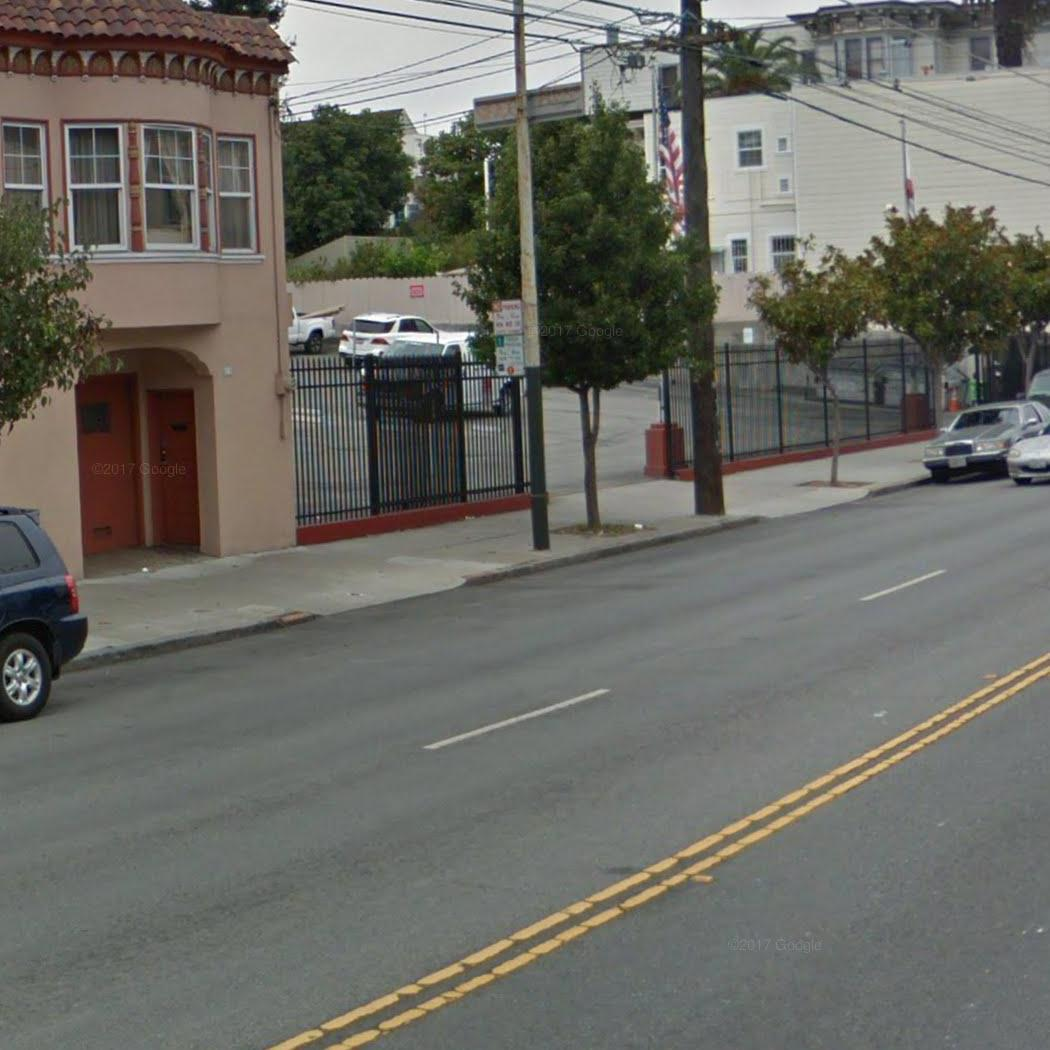2 Hour Parking: (492, 334, 526, 379)
No Parking: (489, 297, 526, 337)
